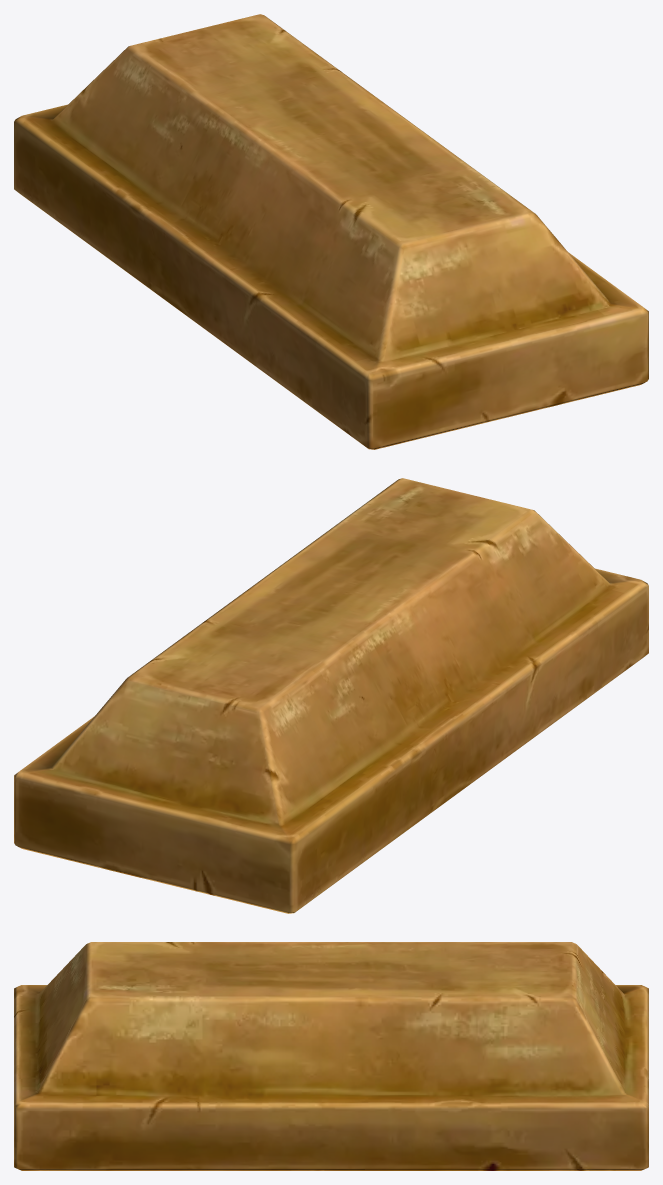
3 views of the same model, one above another, from view 1: azimuth 30°, elevation 25°; view 2: azimuth 150°, elevation 25°; view 3: azimuth 270°, elevation 25° (orthographic). The views are drawn at different scales.
Visible parts, largest first — view 1: SM_Ingot_Bronze_01_LOD0; view 2: SM_Ingot_Bronze_01_LOD0; view 3: SM_Ingot_Bronze_01_LOD0.
Boxes of the visible parts, box(x1,y1,x2,y2) form: SM_Ingot_Bronze_01_LOD0: box(14, 14, 648, 449); SM_Ingot_Bronze_01_LOD0: box(14, 478, 648, 913); SM_Ingot_Bronze_01_LOD0: box(14, 942, 648, 1170).
Bounding box in the file's own units: 0.2445 × 0.1322 × 0.5369.
Materials: 1 (1 with a texture image).
